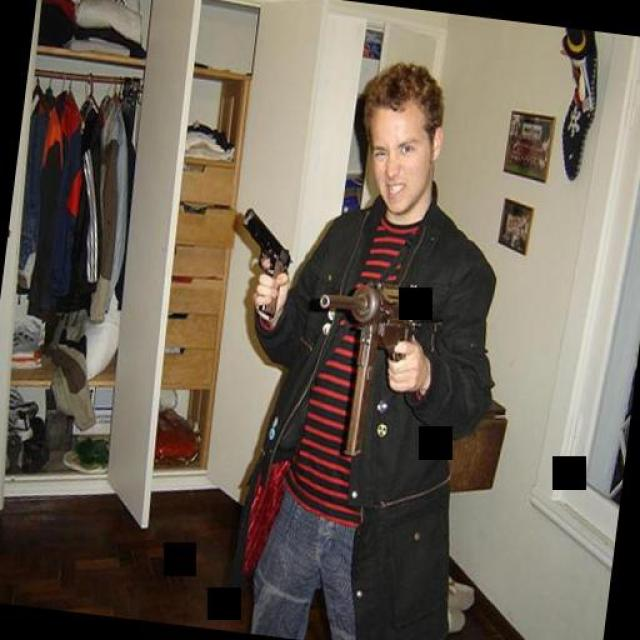gun: (229, 202, 295, 318)
